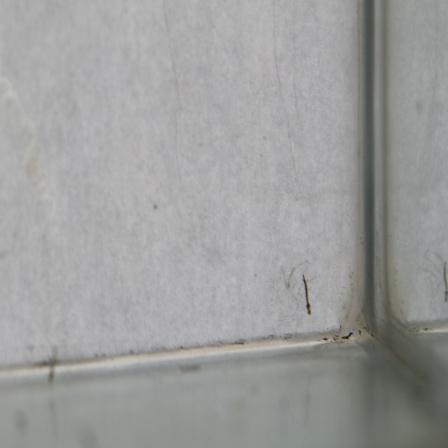Jentik-Nyamuk: (299, 272, 313, 318)
